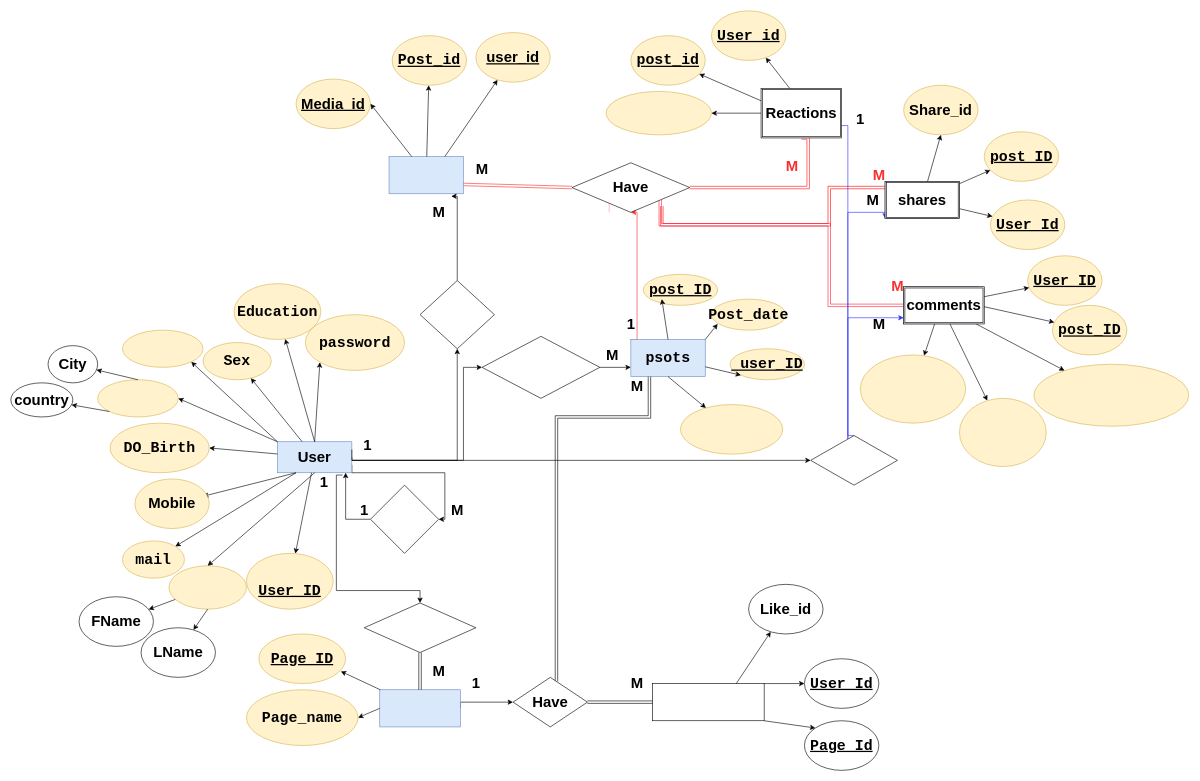
Some shapes in this 1200 by 781 pixel diagram are drawn without their labels. Each missing label, with the centre of its shape:
Address: point (137, 398)
comment_content: point (1111, 395)
comment_date: point (913, 388)
comment_ID: point (1002, 432)
connect: point (404, 519)
Creat: point (540, 367)
Likes: point (420, 627)
Make: point (853, 460)
Media: point (425, 175)
Page_Likes: point (708, 702)
pages: point (419, 708)
post_content: point (731, 429)
reaction_ID: point (658, 113)
Status: point (162, 348)
Upload: point (456, 314)
user_name: point (207, 587)
